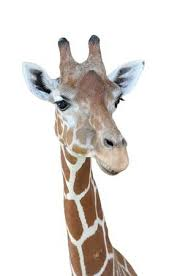Jirafa: (11, 28, 143, 261)
